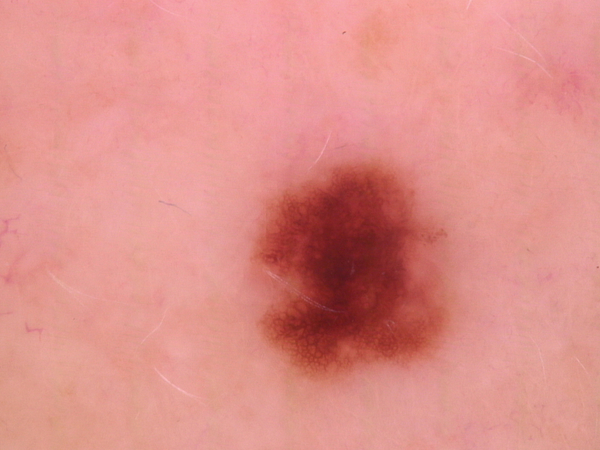Detected Lesion: (248, 147, 456, 387)
